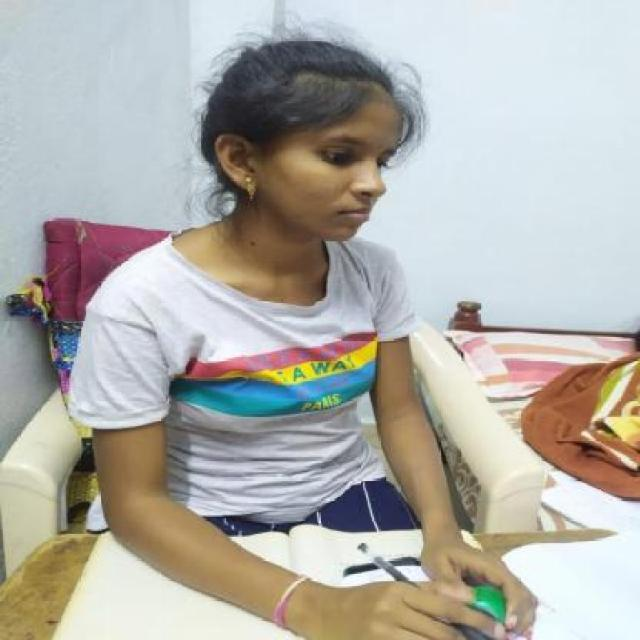good: (56, 16, 567, 640)
